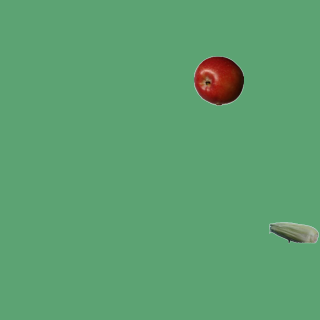Apple Braeburn: (193, 55, 243, 105)
Corn Husk: (268, 207, 318, 257)
